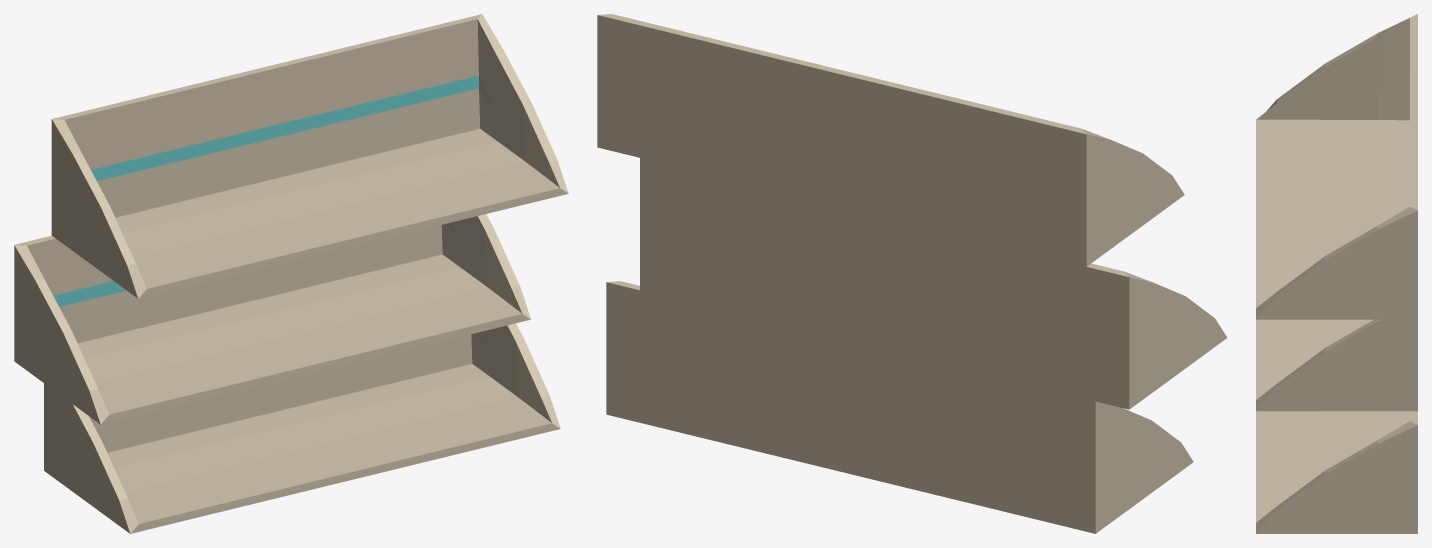
Rendered from mueble.fbx.
The picture shows the model from 3 angles, left to right: view 1: azimuth 30°, elevation 25°; view 2: azimuth 150°, elevation 25°; view 3: azimuth 270°, elevation 25°; orthographic projection. The views are drawn at different scales.
Parts seen in each view (by area): view 1: Plane.001; view 2: Plane.001; view 3: Plane.001.
Part boxes in pixels (bbox=[...]): Plane.001: bbox=[14, 14, 568, 533]; Plane.001: bbox=[597, 14, 1227, 533]; Plane.001: bbox=[1256, 14, 1417, 533].
Size of the model in its own units: 213 by 152 by 68.03.
